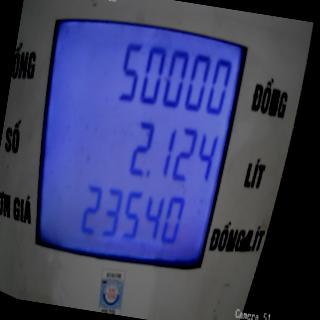screen: (16, 0, 255, 284)
